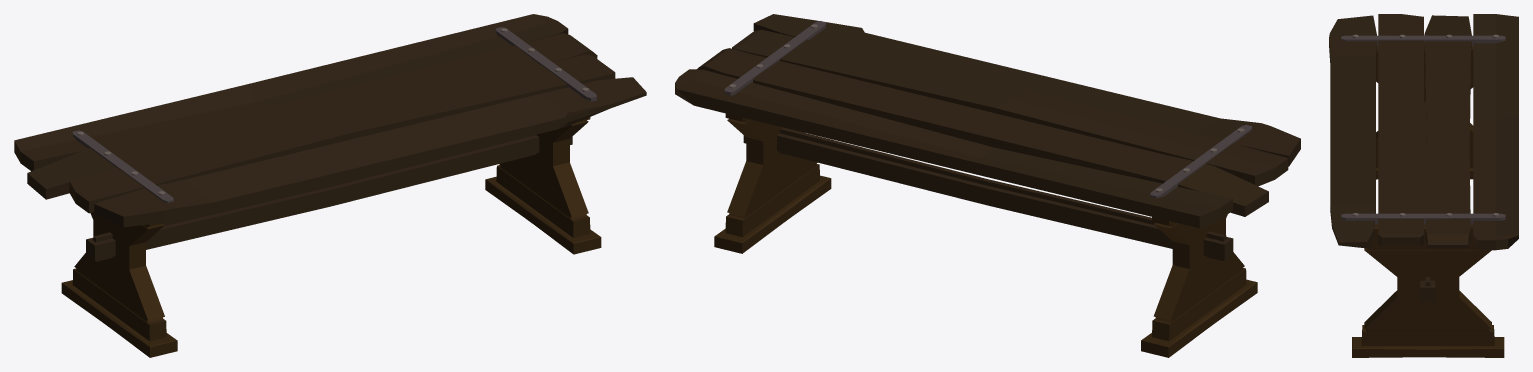
File: LongTableGuards 1.fbx
3 renders of one model, left to right at view 1: azimuth 30°, elevation 25°; view 2: azimuth 150°, elevation 25°; view 3: azimuth 270°, elevation 25°, orthographic. The views are drawn at different scales.
Visible parts, largest first — view 1: Cube.002; view 2: Cube.002; view 3: Cube.002.
Part boxes in pixels (x1,y1,x2,y2): Cube.002: (14,14,646,357); Cube.002: (675,14,1300,357); Cube.002: (1329,14,1518,357).
Bounding box in the file's own units: 351 × 98.38 × 122.
